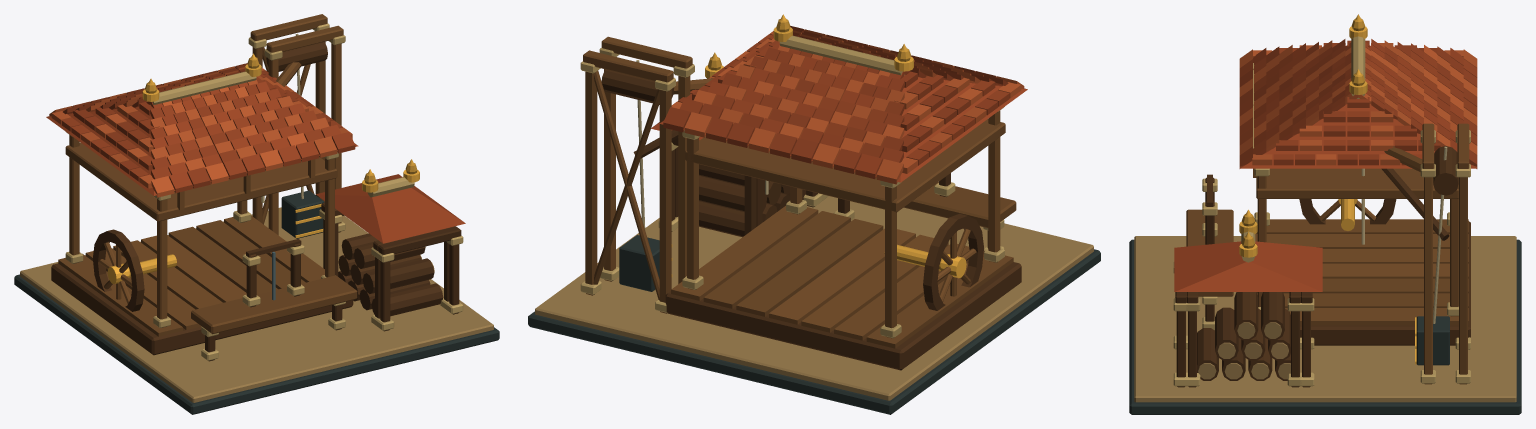
3 renders of one model, left to right at view 1: azimuth 30°, elevation 25°; view 2: azimuth 150°, elevation 25°; view 3: azimuth 270°, elevation 25°, orthographic. The views are drawn at different scales.
Parts seen in each view (by area): view 1: lumber_8_structure, lumber_8_metal; view 2: lumber_8_structure, lumber_8_metal; view 3: lumber_8_structure, lumber_8_metal.
Part boxes in pixels (<box>): lumber_8_structure: <box>14,14,499,414</box>; lumber_8_metal: <box>107,53,419,283</box>; lumber_8_structure: <box>528,19,1100,414</box>; lumber_8_metal: <box>671,14,966,278</box>; lumber_8_structure: <box>1129,18,1521,414</box>; lumber_8_metal: <box>1239,14,1416,364</box>.
Bounding box in the file's own units: 5.6 × 4.26 × 5.6.
